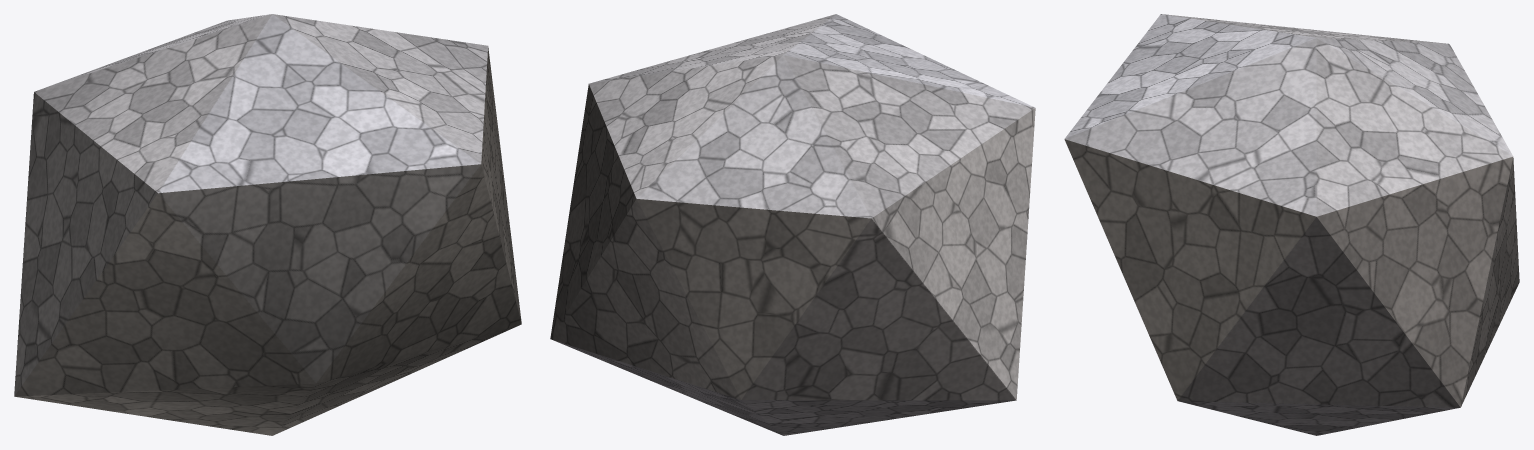
File: area_gym_0_5.fbx
3 renders of one model, left to right at view 1: azimuth 30°, elevation 25°; view 2: azimuth 150°, elevation 25°; view 3: azimuth 270°, elevation 25°, orthographic. The views are drawn at different scales.
Visible parts, largest first — view 1: area_gym_0_5_body; view 2: area_gym_0_5_body; view 3: area_gym_0_5_body.
Boxes of the visible parts, x1=… form: area_gym_0_5_body: x1=14, y1=14, x2=521, y2=435; area_gym_0_5_body: x1=550, y1=14, x2=1035, y2=435; area_gym_0_5_body: x1=1064, y1=14, x2=1519, y2=435.
Bounding box in the file's own units: 1385 × 1178 × 1221.
Materials: 1 (1 with a texture image).
